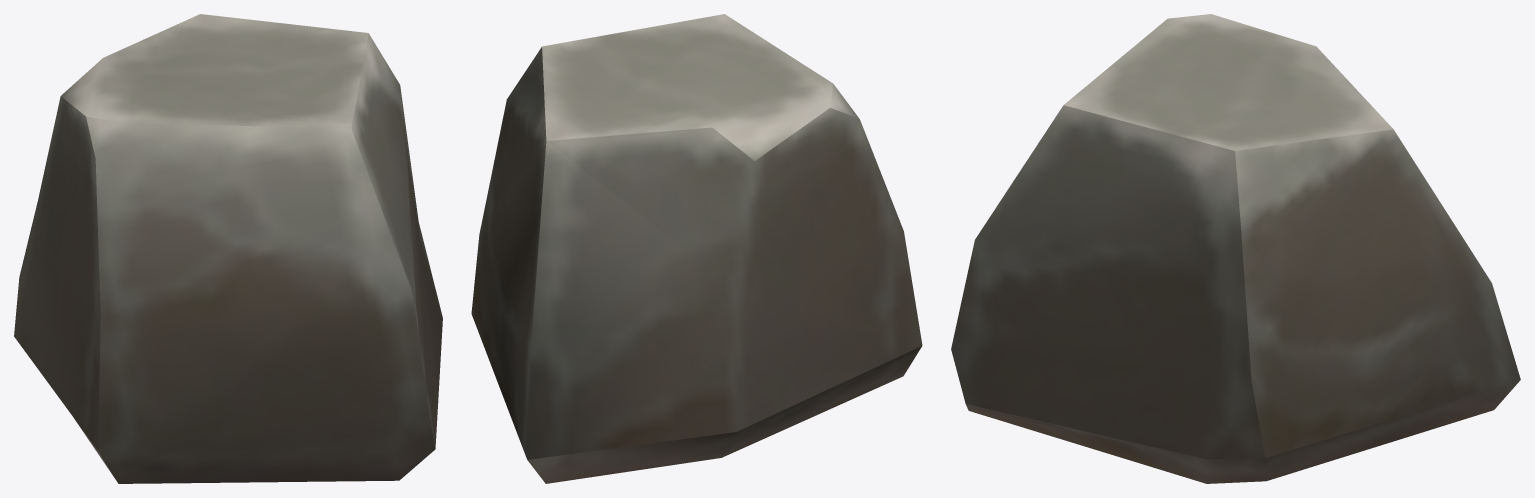
File: rocks_06.glb
3 views of the same model, side by side, from view 1: azimuth 30°, elevation 25°; view 2: azimuth 150°, elevation 25°; view 3: azimuth 270°, elevation 25° (orthographic). The views are drawn at different scales.
Visible parts, largest first — view 1: SM_Rocks_06_RocksStylized_M_0; view 2: SM_Rocks_06_RocksStylized_M_0; view 3: SM_Rocks_06_RocksStylized_M_0.
Part boxes in pixels (x1,y1,x2,y2): SM_Rocks_06_RocksStylized_M_0: [14, 14, 442, 483]; SM_Rocks_06_RocksStylized_M_0: [471, 14, 922, 483]; SM_Rocks_06_RocksStylized_M_0: [951, 14, 1520, 483].
Size of the model in its own units: 2.83 by 2.41 by 3.63.
Materials: 1 (1 with a texture image).
